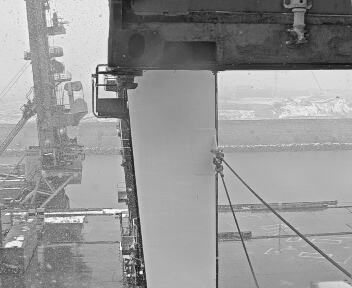twist_lock_1: (106, 63, 153, 102)
